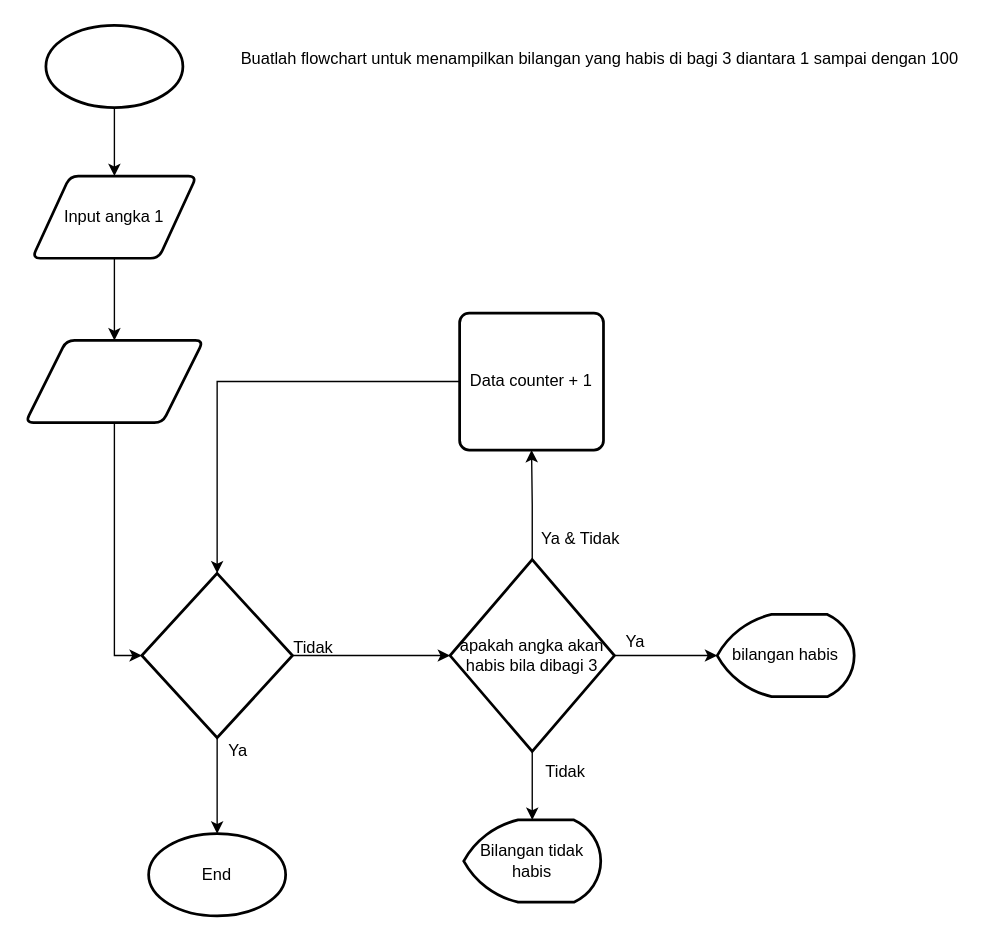
The diagram is 999 pixels wide and 940 high, and some of its shapes have lost their labels. Here are the shapes that lost their labels. From the top down, the centre of each, then its label:
point 114,65: Start
point 113,380: Data counter = 0
point 216,654: Apakah Data counter sama dengan 100
